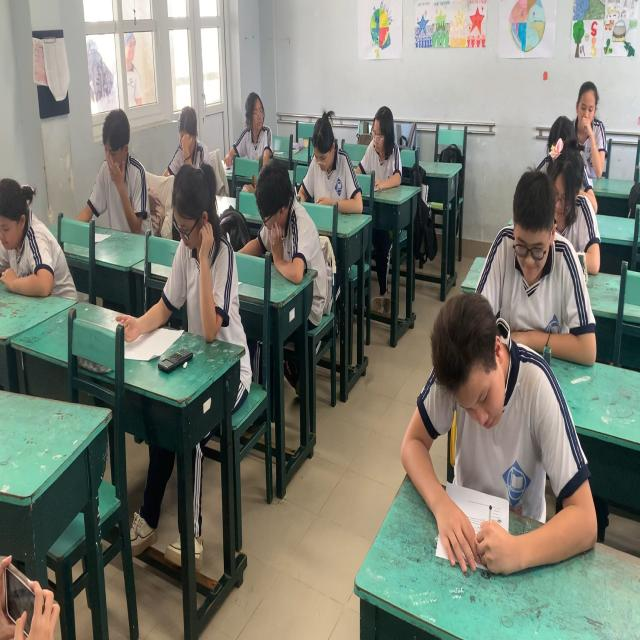cheating: (227, 78, 278, 171)
not_cheating: (394, 298, 570, 586), (496, 171, 577, 337), (161, 167, 227, 341), (2, 171, 81, 316), (85, 92, 151, 257), (250, 157, 320, 278), (299, 102, 362, 212), (542, 105, 589, 233), (357, 88, 404, 188), (169, 88, 204, 168), (575, 81, 601, 143)
